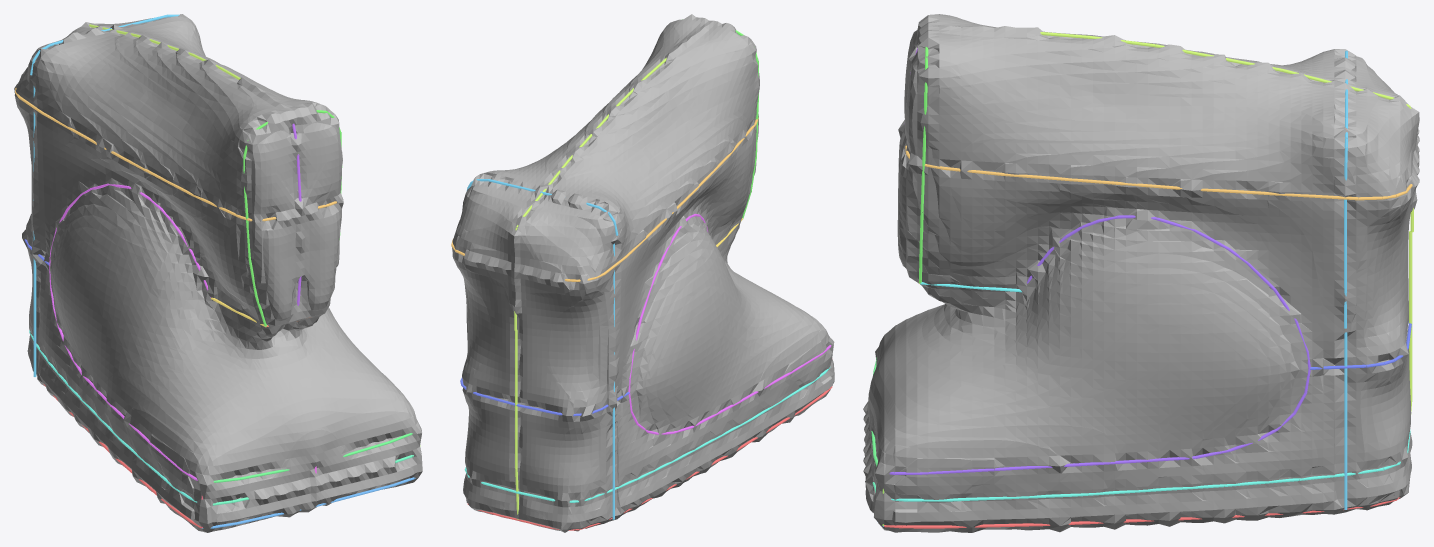
Rendered from t2f_sewing_machine.gltf.
3 renders of one model, left to right at view 1: azimuth 30°, elevation 25°; view 2: azimuth 150°, elevation 25°; view 3: azimuth 270°, elevation 25°, orthographic. The views are drawn at different scales.
Size of the model in its own units: 0.3932 by 0.6421 by 0.7075.
